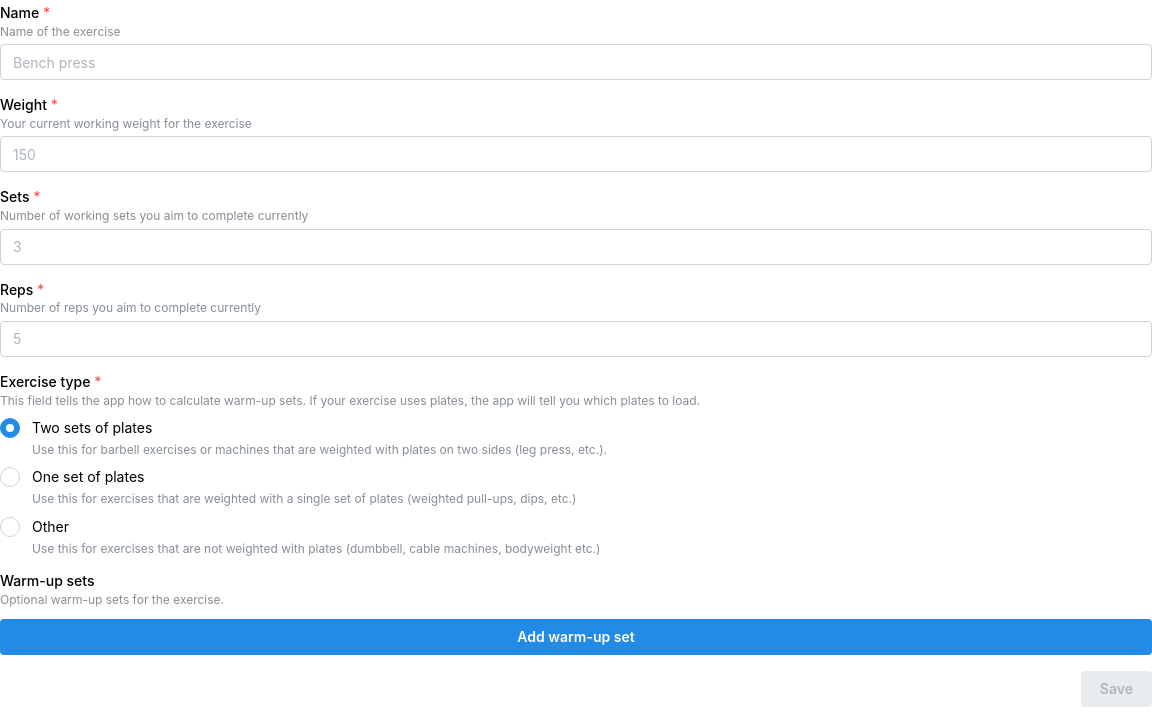
Scenario: ExerciseForm › exercise type › auto-sets Minimum weight increment back to 5 after switching away from One set of plates
Click the radio button labelled "One set of plates". click: (10, 477)
box: [0,467,20,487]
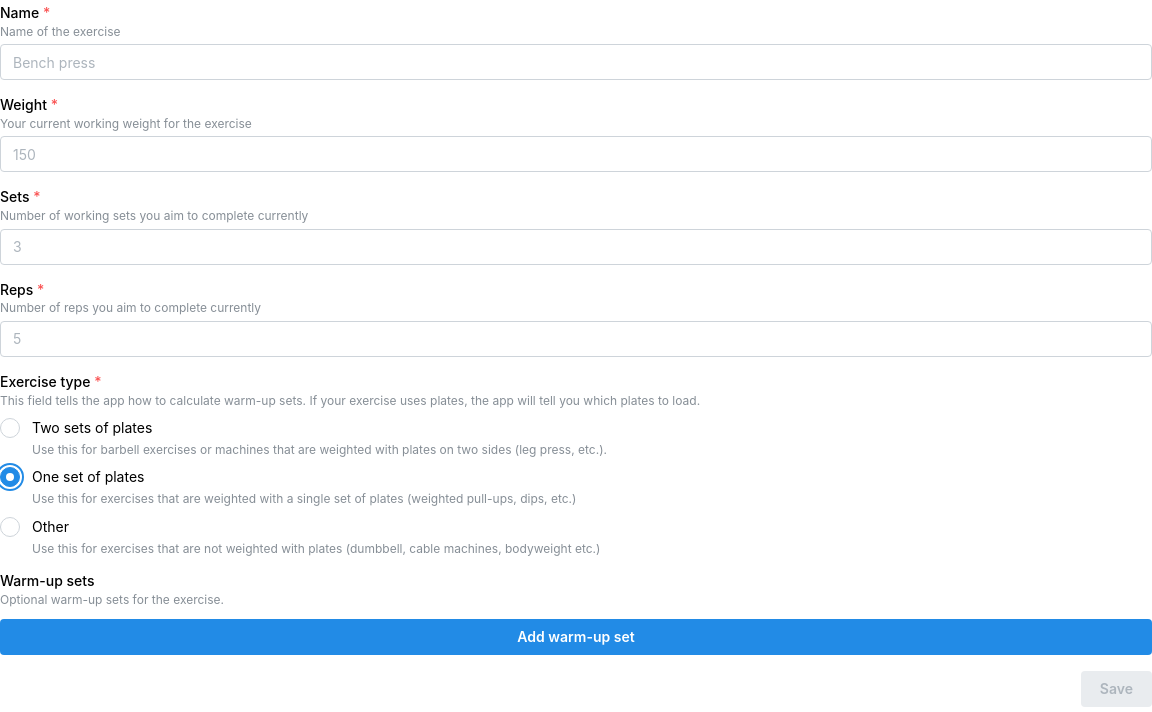
Click the radio button labelled "Two sets of plates". click: (10, 428)
box: [0,418,20,438]
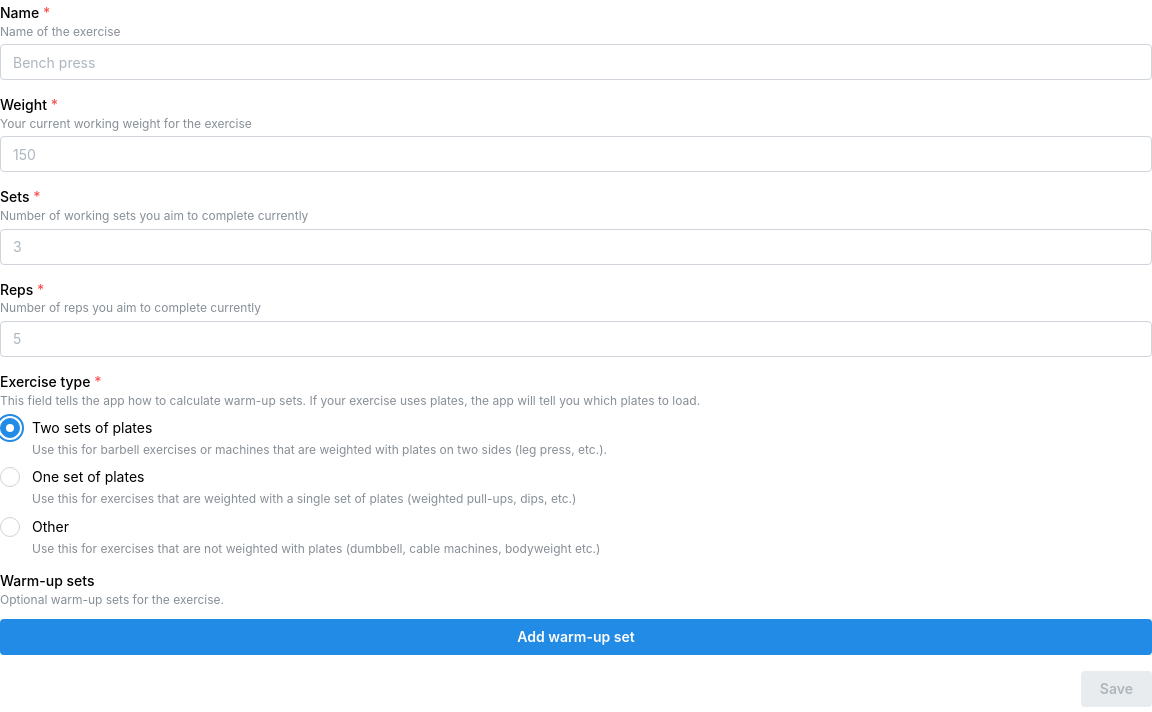
Click the radio button labelled "Other". click: (10, 527)
box: [0,517,20,537]
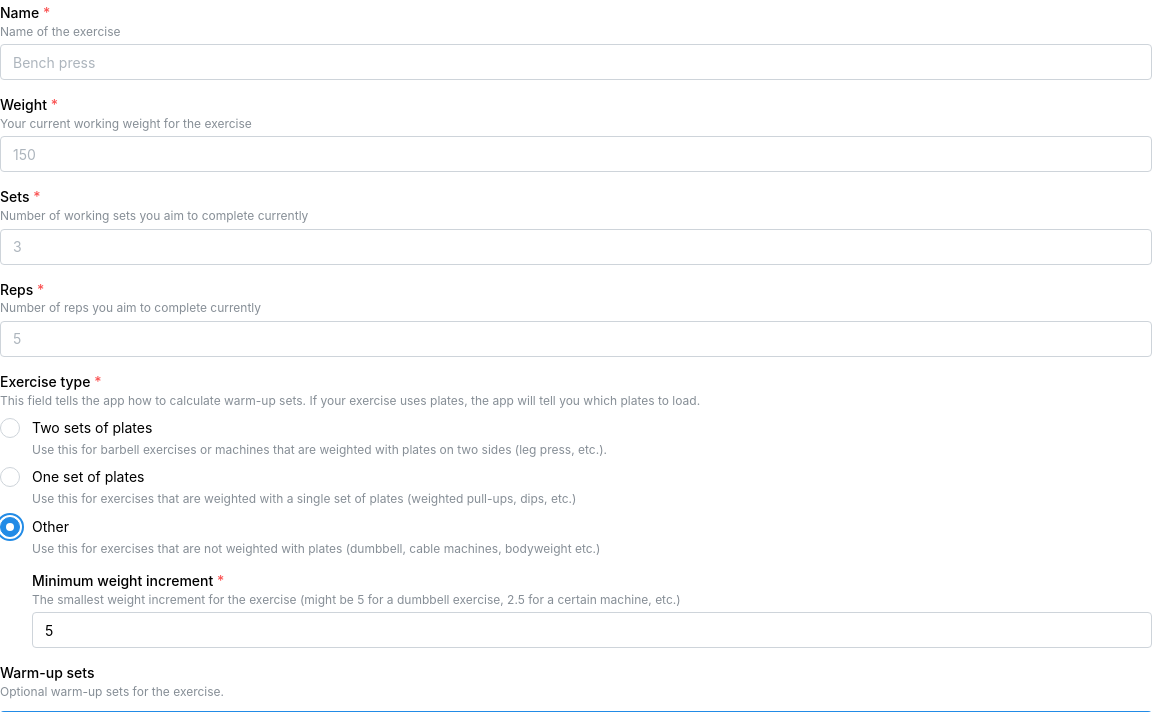
Expected: the field labelled "Minimum weight increment" holds "5", [32,612,1151,648]
